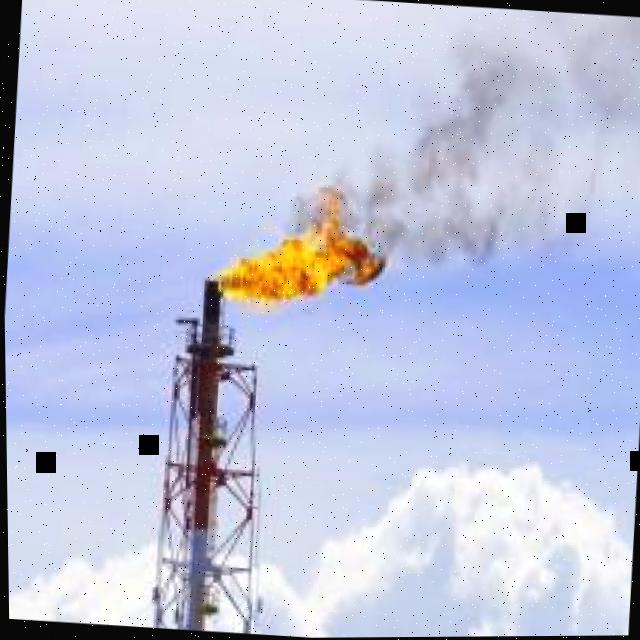fire: (216, 189, 383, 309)
smoke: (276, 4, 640, 264)
